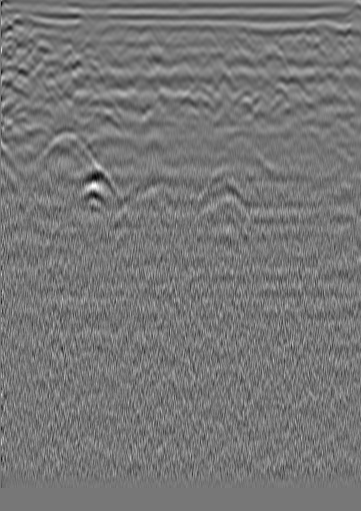가스: (66, 162, 124, 198)
상수: (311, 31, 331, 51)
오수: (31, 32, 51, 52)
우수: (195, 31, 215, 51)
